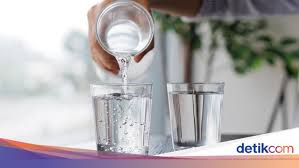air: (88, 88, 159, 158), (165, 88, 230, 153)
